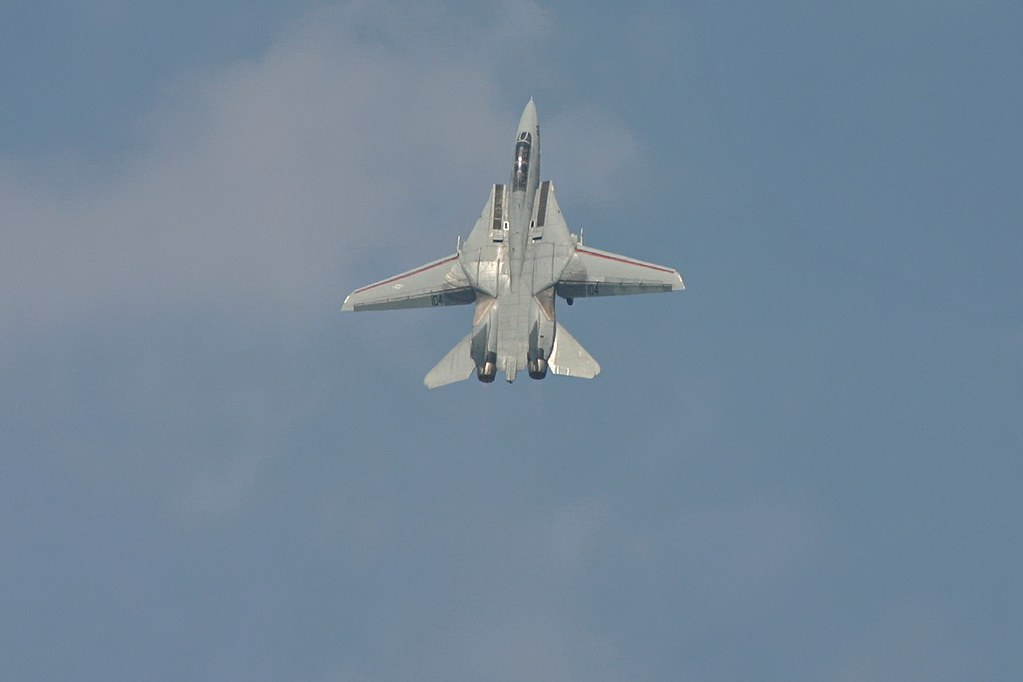F14: (339, 94, 687, 390)
